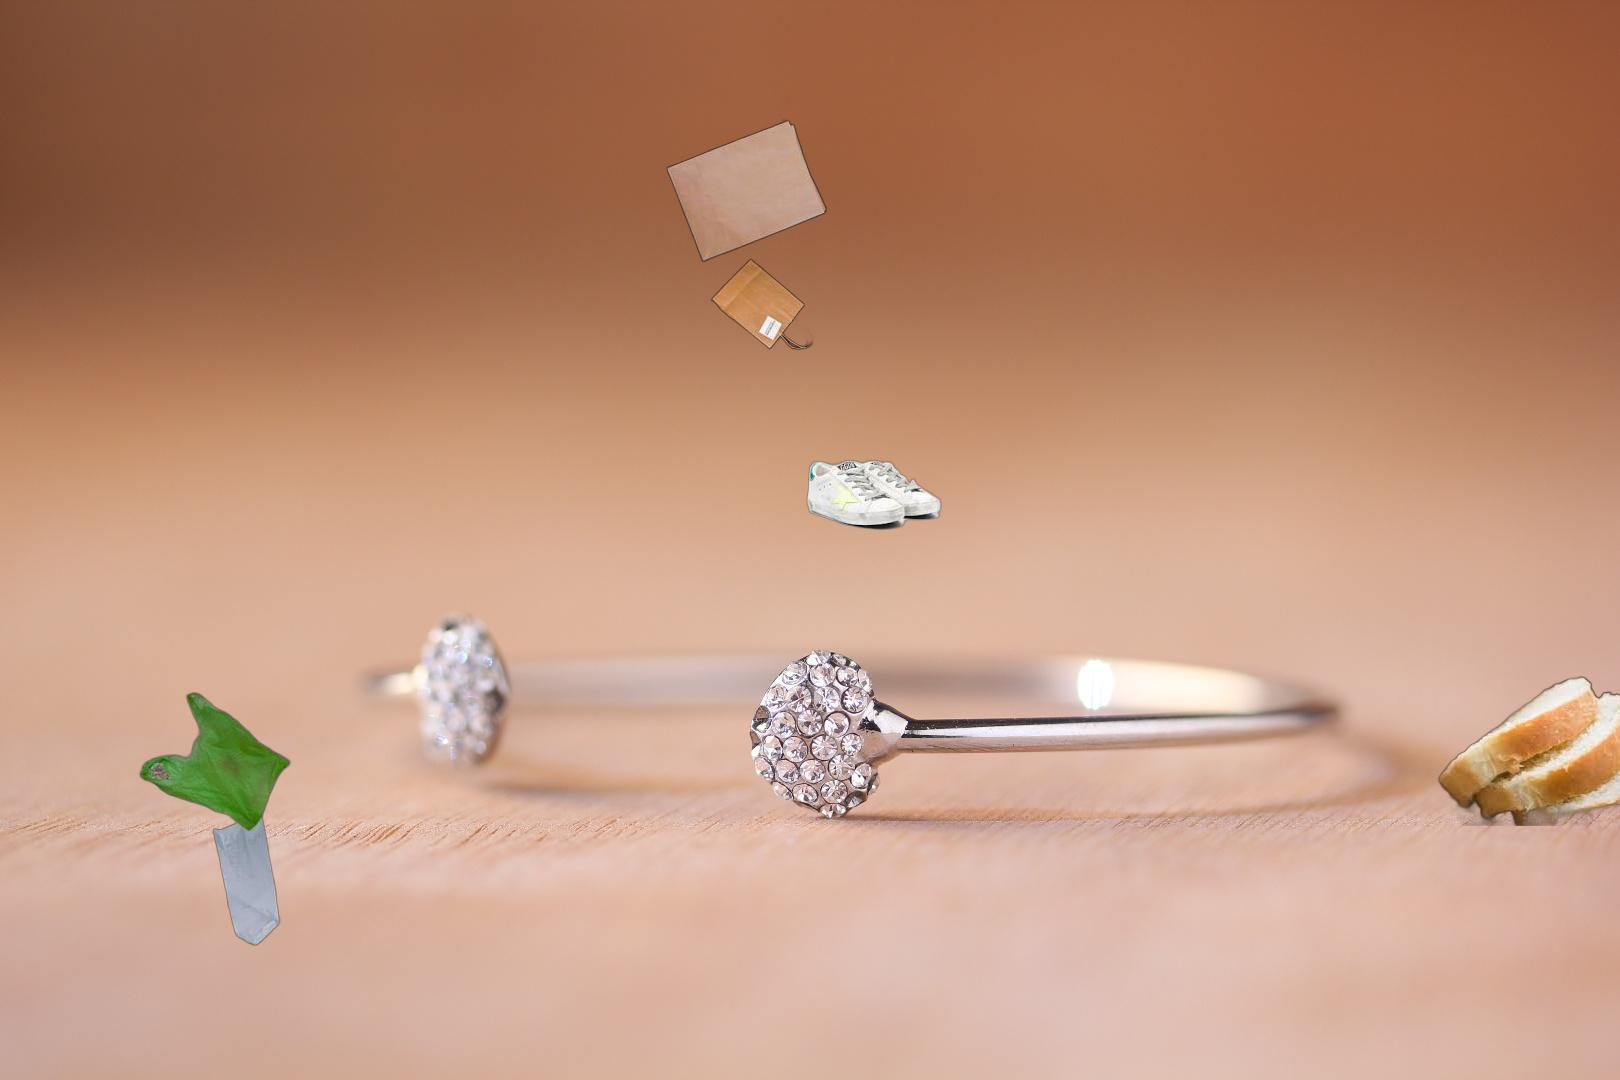biological: (1436, 674, 1620, 826)
paper-bag: (664, 118, 830, 353)
plastic-bag: (137, 689, 293, 947)
shoes: (804, 458, 944, 533)
